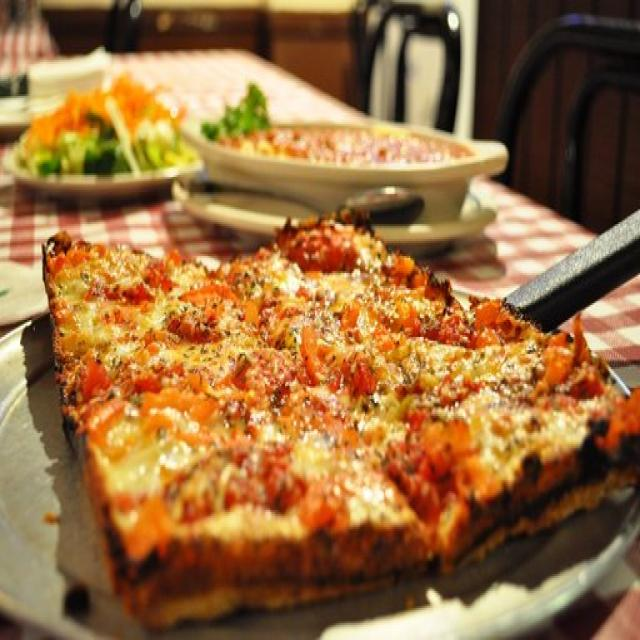Pizza: (45, 218, 640, 625)
